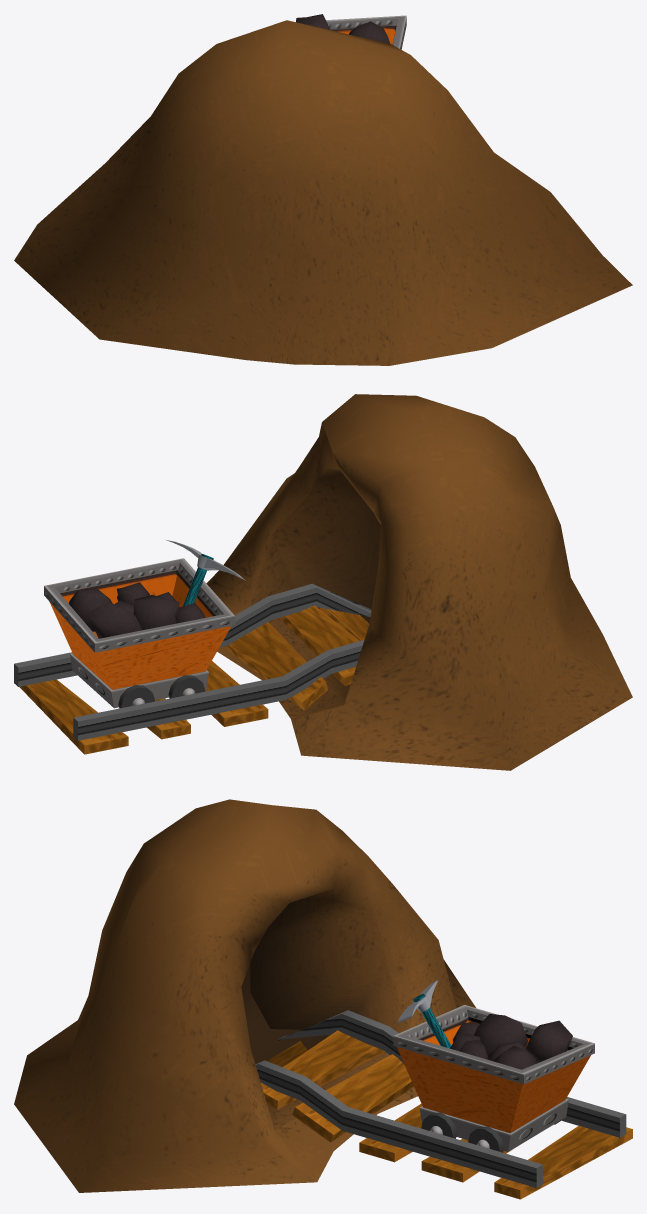
Rendered from Mine_Final.FBX.
3 views of the same model, one above another, from view 1: azimuth 30°, elevation 25°; view 2: azimuth 150°, elevation 25°; view 3: azimuth 270°, elevation 25° (orthographic). The views are drawn at different scales.
Parts seen in each view (by area): view 1: Cave, Cart, Coal_01; view 2: Cave, Track, Cart, Coal_04, Coal_05, Pickaxe, Coal_01; view 3: Cave, Track, Cart, Coal_05, Coal_04, Pickaxe, Coal_01.
Boxes of the visible parts, <box> form: Cave: <box>14,20,632,365</box>; Cart: <box>295,15,406,49</box>; Coal_01: <box>349,21,389,43</box>; Cave: <box>206,394,632,770</box>; Track: <box>14,583,371,754</box>; Cart: <box>44,558,234,708</box>; Coal_04: <box>86,601,142,638</box>; Coal_05: <box>133,595,179,629</box>; Pickaxe: <box>166,540,245,606</box>; Coal_01: <box>68,589,112,631</box>; Cave: <box>14,799,475,1192</box>; Track: <box>255,1010,632,1199</box>; Cart: <box>393,1005,594,1152</box>; Coal_05: <box>474,1014,527,1056</box>; Coal_04: <box>526,1020,572,1063</box>; Pickaxe: <box>397,979,451,1048</box>; Coal_01: <box>493,1045,536,1069</box>.
Size of the model in its own units: 31.35 by 16.21 by 34.33.
5 materials, 5 textured.
